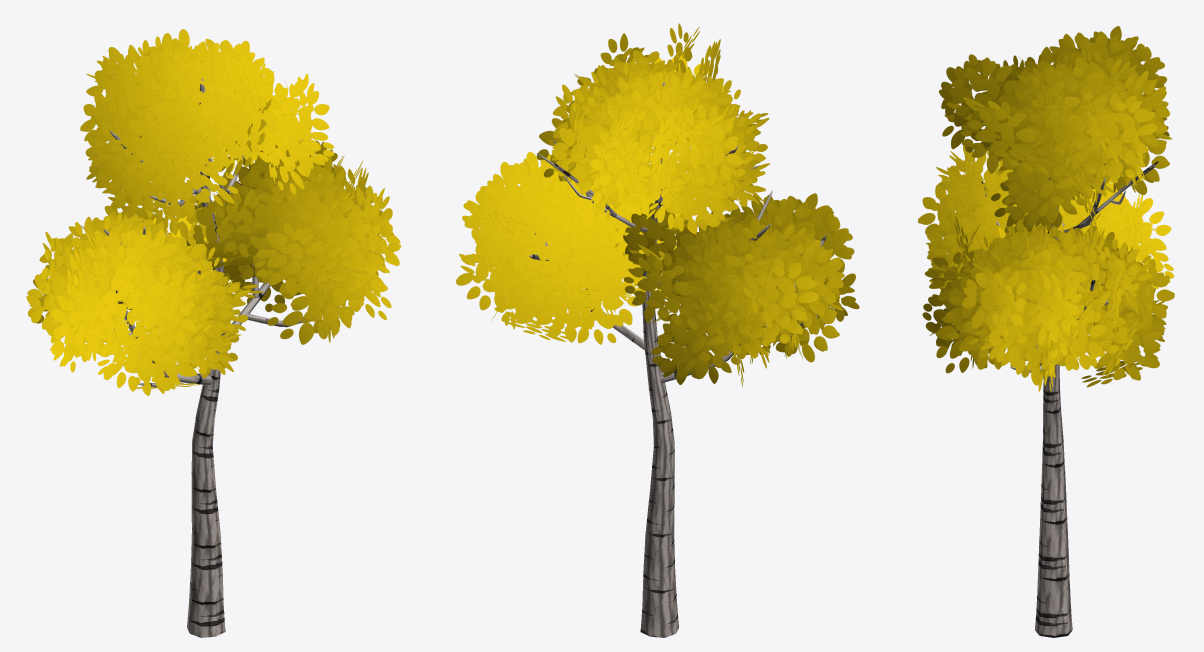
File: tree-birch-2.glb
The picture shows the model from 3 angles, left to right: view 1: azimuth 30°, elevation 25°; view 2: azimuth 150°, elevation 25°; view 3: azimuth 270°, elevation 25°; orthographic projection.
Parts seen in each view (by area): view 1: BirchTree_4; view 2: BirchTree_4; view 3: BirchTree_4.
Boxes of the visible parts, <box> form: BirchTree_4: <box>26,29,401,637</box>; BirchTree_4: <box>456,23,859,637</box>; BirchTree_4: <box>917,26,1174,637</box>.
Size of the model in its own units: 2.78 by 4.21 by 1.84.
2 materials, 2 textured.
